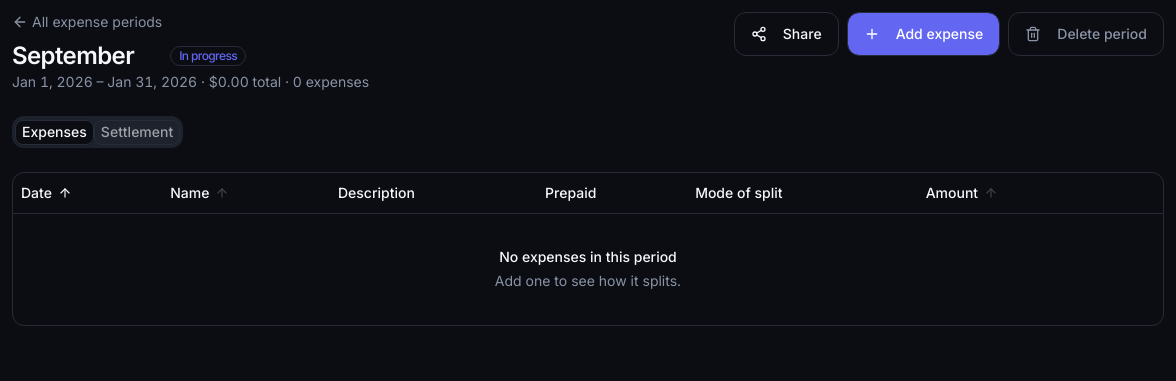
Test case: checklist: expenses › renames the period inline from the header
Click the button "September" at (85, 56), box top-left (12, 40), bottom-right (158, 72)
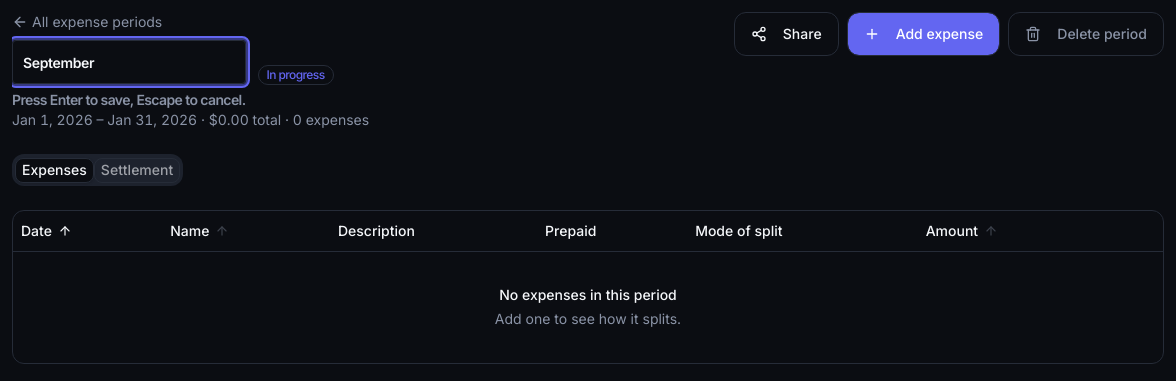
Replace the text in the field named "expense period name" with "Autumn 2026" at (129, 62), box top-left (12, 40), bottom-right (246, 84)
Then press Enter
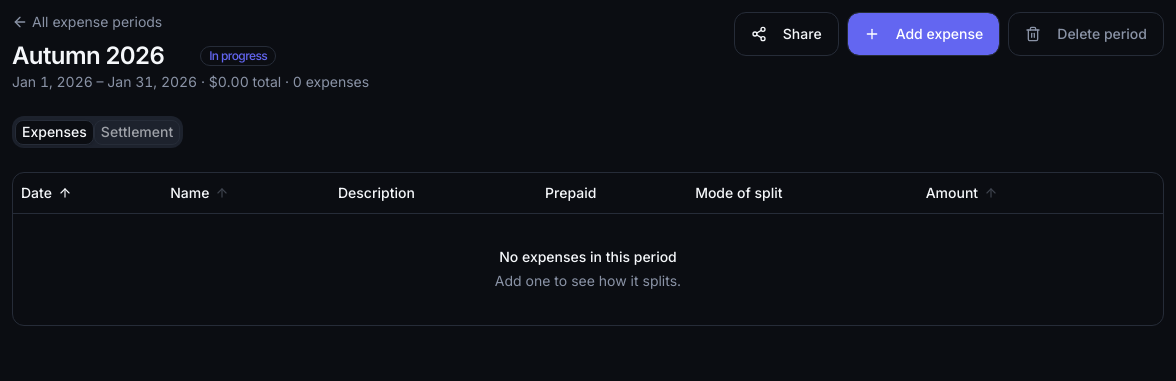
Now the text "Autumn 2026" is shown, box top-left (12, 40), bottom-right (164, 72)
